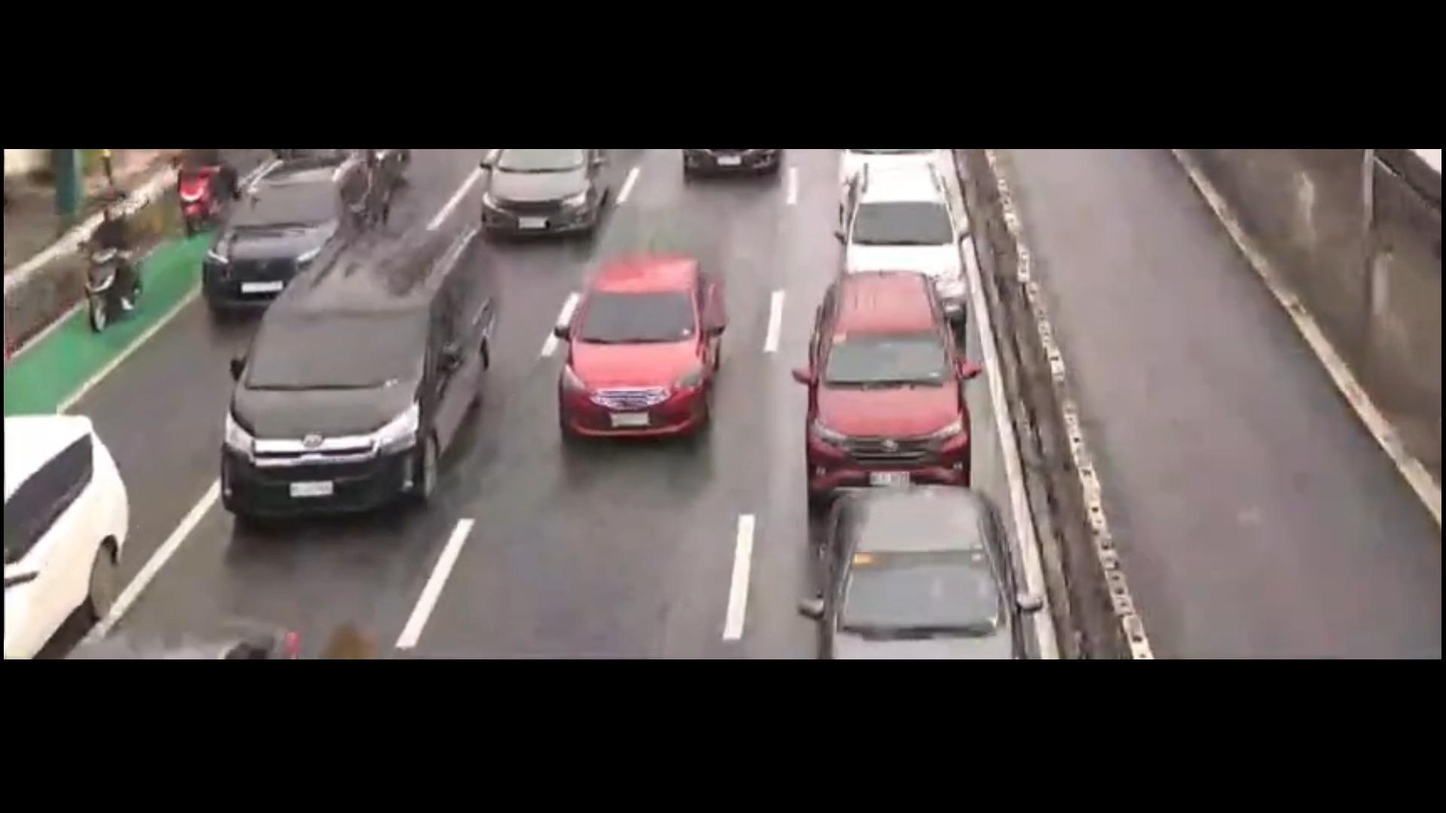Motorcycle: (60, 187, 142, 328), (152, 143, 245, 262)
SUV: (782, 277, 995, 505), (0, 413, 151, 663), (199, 148, 390, 320), (832, 153, 981, 324)
Sedan: (522, 238, 750, 474), (799, 466, 1025, 661), (462, 146, 616, 251)
Van: (200, 200, 524, 536)
